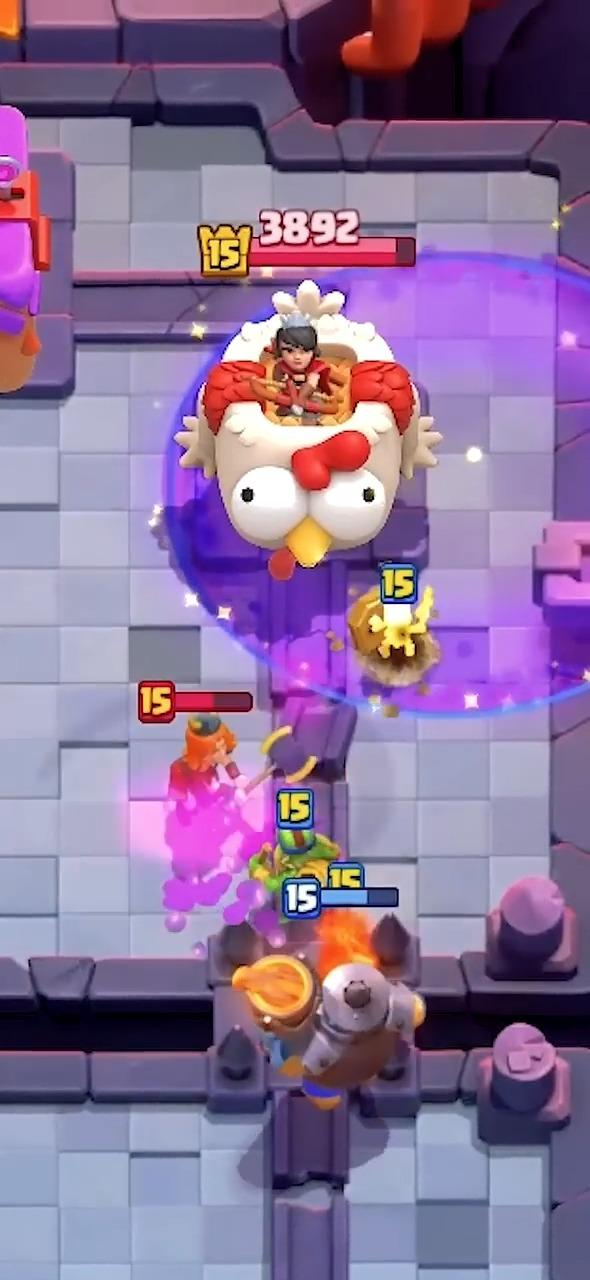fire spirit: (317, 911, 377, 979)
furnace: (233, 941, 424, 1108)
graveyard: (253, 249, 589, 717)
skeleton: (370, 587, 433, 657)
spear goblin: (249, 827, 340, 909)
valkyrie: (168, 713, 245, 813)
